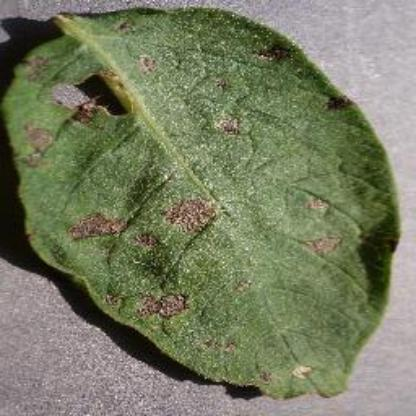Early-Blight: (8, 8, 400, 402)
